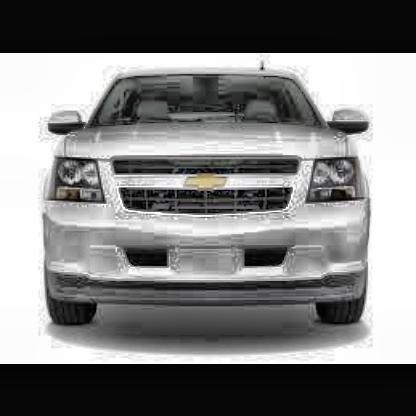Chevrolet Tahoe Hybrid SUV 2012: (40, 60, 378, 331)
